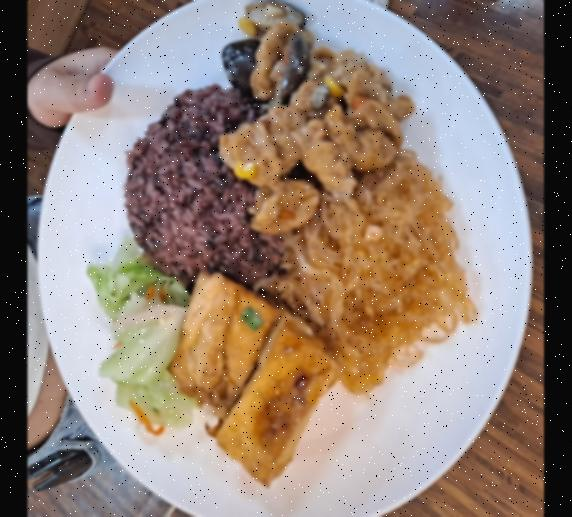plate: (36, 0, 540, 517)
purple rice: (127, 86, 283, 284)
side dish: (278, 147, 472, 390), (216, 5, 414, 234), (165, 271, 337, 482), (84, 249, 194, 435)
